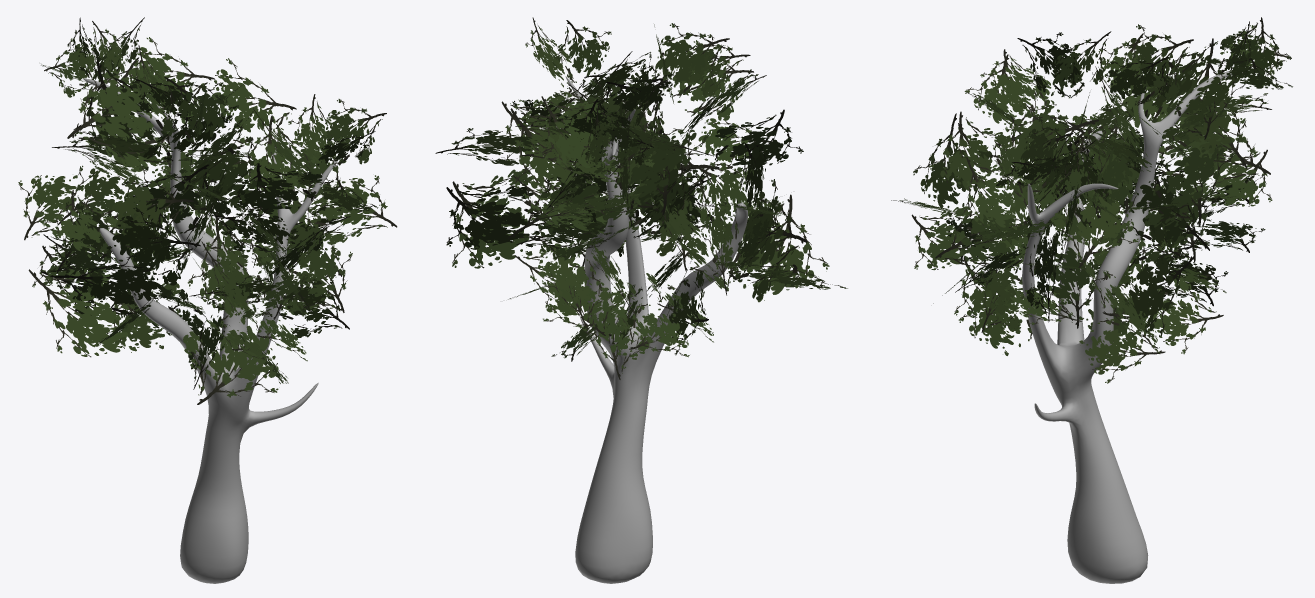
The model's file is treeA_03_stilltrunk.fbx.
3 renders of one model, left to right at view 1: azimuth 30°, elevation 25°; view 2: azimuth 150°, elevation 25°; view 3: azimuth 270°, elevation 25°, orthographic. The views are drawn at different scales.
Visible parts, largest first — view 1: treeA_03b; view 2: treeA_03b; view 3: treeA_03b.
Boxes of the visible parts, x1,y1,x2,y2 form: treeA_03b: (18, 17, 397, 583); treeA_03b: (435, 17, 847, 583); treeA_03b: (891, 17, 1292, 583).
Size of the model in its own units: 359 by 505 by 353.
Materials: 3 (1 with a texture image).
